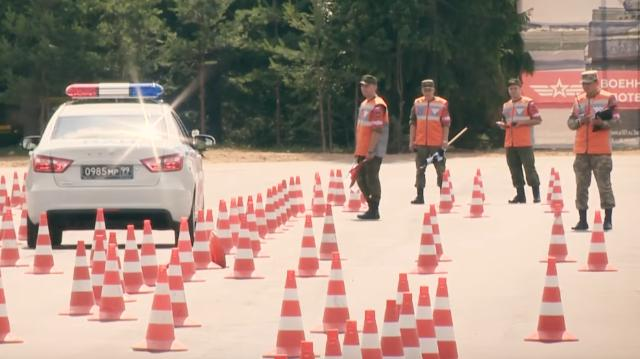police car: (21, 74, 219, 255)
